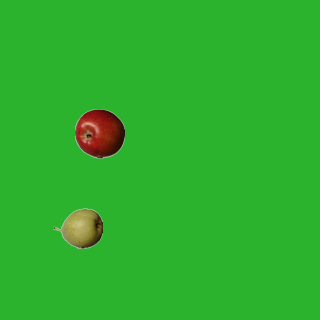Apple Braeburn: (74, 108, 124, 158)
Pear: (52, 203, 102, 253)
